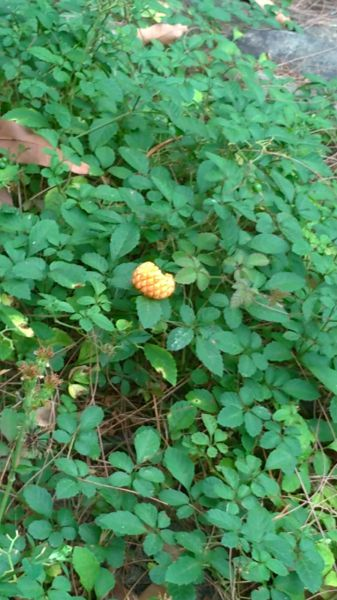eggs: (129, 257, 178, 302)
